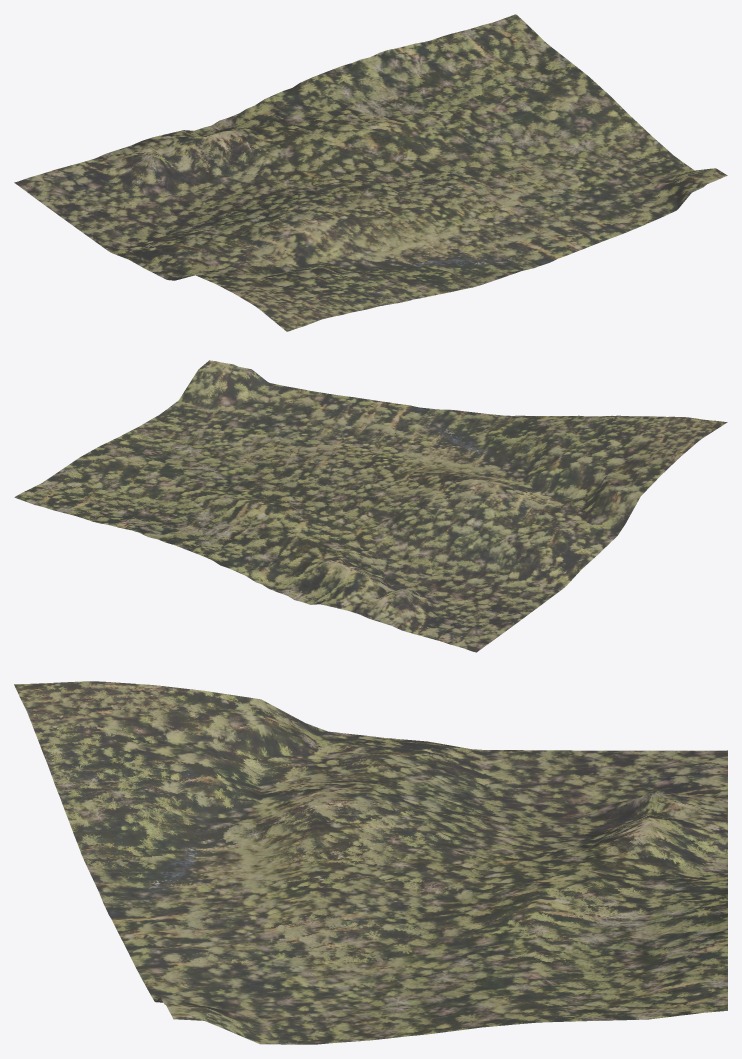
File: CM_Terrain_24493735_6813855.fbx
3 views of the same model, one above another, from view 1: azimuth 30°, elevation 25°; view 2: azimuth 150°, elevation 25°; view 3: azimuth 270°, elevation 25° (orthographic). The views are drawn at different scales.
Parts seen in each view (by area): view 1: CM_Terrain_24493735_6813855_LOD0; view 2: CM_Terrain_24493735_6813855_LOD0; view 3: CM_Terrain_24493735_6813855_LOD0.
Boxes of the visible parts, box(x1,y1,x2,y2) form: CM_Terrain_24493735_6813855_LOD0: box(14, 14, 727, 331); CM_Terrain_24493735_6813855_LOD0: box(14, 360, 727, 652); CM_Terrain_24493735_6813855_LOD0: box(14, 681, 727, 1044).
Size of what is drawn, in the model's own units: 205 by 20.7 by 193.
